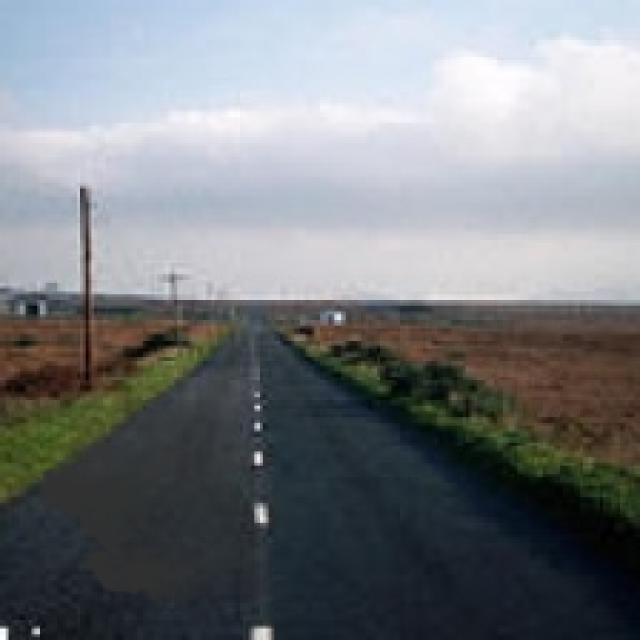smoke: (28, 392, 288, 614)
